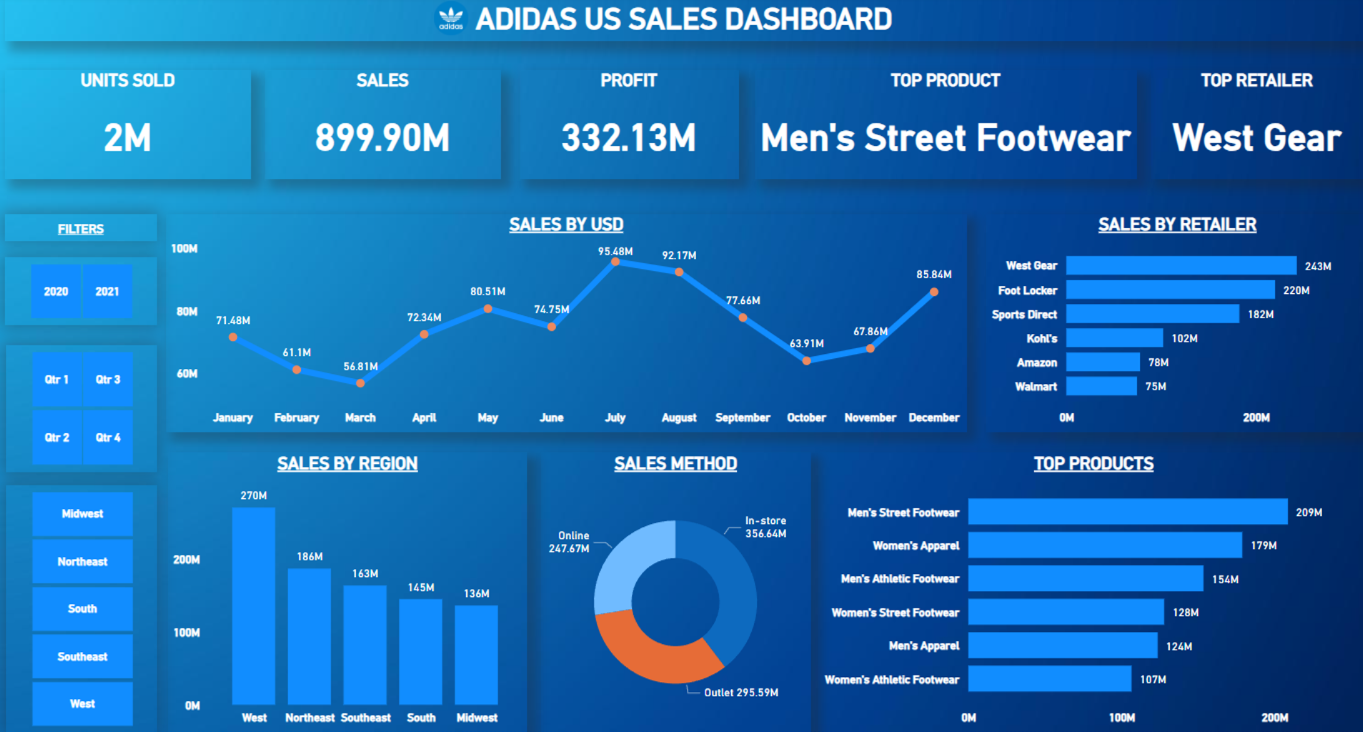

The page's visual inventory and layout, read from the dashboard file:
{"tool":"powerbi","page":{"name":"Page 1","canvas":[1343,720],"ordinal":0},"visuals":[{"type":"textbox","box":[7.3,0,1329.1,43.6],"z":0},{"type":"lineChart","title":"SALES BY USD","fields":{"Y":["Sum(Sheet1.Total Sales)"],"Category":["Sheet1.Invoice Date.Variation.Date Hierarchy.Month"]},"box":[164.5,217.3,784.5,209.1],"z":1000},{"type":"slicer","title":"YEAR","fields":{"Values":["Sheet1.Invoice Date.Variation.Date Hierarchy.Year"]},"box":[7.3,255.5,149.1,66.4],"z":2000},{"type":"slicer","fields":{"Values":["Sheet1.Invoice Date.Variation.Date Hierarchy.Quarter"]},"box":[8.2,340.9,148.2,123.6],"z":3000},{"type":"slicer","fields":{"Values":["Sheet1.Region"]},"box":[8.2,478.2,148.2,241.8],"z":4000},{"type":"textbox","box":[7.3,212.7,149.1,27.3],"z":5000},{"type":"barChart","title":"SALES BY RETAILER","fields":{"Category":["Sheet1.Retailer"],"Y":["Sum(Sheet1.Total Sales)"]},"box":[966.4,217.3,376.4,209.1],"z":6000},{"type":"donutChart","title":"SALES METHOD","fields":{"Category":["Sheet1.Sales Method"],"Y":["Sum(Sheet1.Total Sales)"]},"box":[531.8,458.2,263.6,261.8],"z":7000},{"type":"clusteredColumnChart","title":"SALES BY REGION","fields":{"Y":["Sum(Sheet1.Total Sales)"],"Category":["Sheet1.Region"]},"box":[167.3,458.2,350.9,261.8],"z":8000},{"type":"card","title":"UNITS SOLD","fields":{"Values":["Sum(Sheet1.Units Sold)"]},"box":[7.3,72.7,240.9,106.4],"z":9000},{"type":"card","title":"SALES ","fields":{"Values":["Sum(Sheet1.Total Sales)"]},"box":[261,72.7,231.2,106.5],"z":10000},{"type":"card","title":"PROFIT","fields":{"Values":["Sum(Sheet1.Operating Profit)"]},"box":[510.4,72.7,214.3,106.5],"z":11000},{"type":"card","title":"TOP RETAILER","fields":{"Values":["Min(Sheet1.Retailer)"]},"box":[1128.6,72.7,207.8,106.5],"z":12000},{"type":"card","title":"PROFIT","fields":{"Values":["Min(Sales.Product)"]},"box":[722.8,72,450.6,106.5],"z":13000},{"type":"barChart","title":"SALES BY RETAILER","fields":{"Y":["Sum(Sheet1.Total Sales)"],"Category":["Sales.Product"]},"box":[842.3,457.8,377.2,254.8],"z":14000}]}

Visuals, with their boxes in screenshot pixels (x1, y1, x2, y2), scaled from the page's 1343x720 canvas onto the 1363x732 screenshot:
textbox: bbox(7, 0, 1356, 44)
"SALES BY USD" lineChart: bbox(167, 221, 963, 434)
"YEAR" slicer: bbox(7, 260, 159, 327)
slicer - Sheet1.Invoice Date.Variation.Date Hierarchy.Quarter: bbox(8, 347, 159, 472)
slicer - Sheet1.Region: bbox(8, 486, 159, 731)
textbox: bbox(7, 216, 159, 244)
"SALES BY RETAILER" barChart: bbox(981, 221, 1362, 434)
"SALES METHOD" donutChart: bbox(540, 466, 807, 731)
"SALES BY REGION" clusteredColumnChart: bbox(170, 466, 526, 731)
"UNITS SOLD" card: bbox(7, 74, 252, 182)
"SALES " card: bbox(265, 74, 500, 182)
"PROFIT" card: bbox(518, 74, 735, 182)
"TOP RETAILER" card: bbox(1145, 74, 1356, 182)
"PROFIT" card: bbox(734, 73, 1191, 181)
"SALES BY RETAILER" barChart: bbox(855, 465, 1238, 724)
